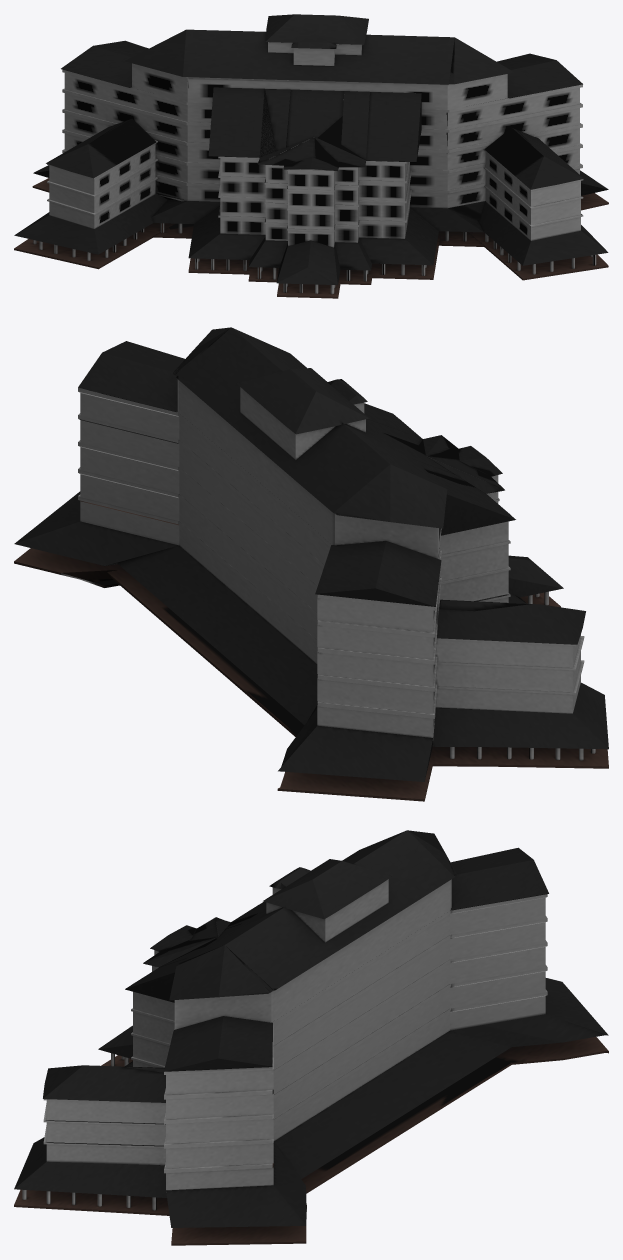
3 views of the same model, one above another, from view 1: azimuth 30°, elevation 25°; view 2: azimuth 150°, elevation 25°; view 3: azimuth 270°, elevation 25° (orthographic). The views are drawn at different scales.
Parts seen in each view (by area): view 1: Plane; view 2: Plane; view 3: Plane.
Boxes of the visible parts, x1,y1,x2,y2 form: Plane: (14, 14, 608, 298); Plane: (14, 327, 608, 801); Plane: (14, 830, 608, 1245).
Size of the model in its own units: 77.06 by 29.77 by 66.25.
Materials: 1 (1 with a texture image).
